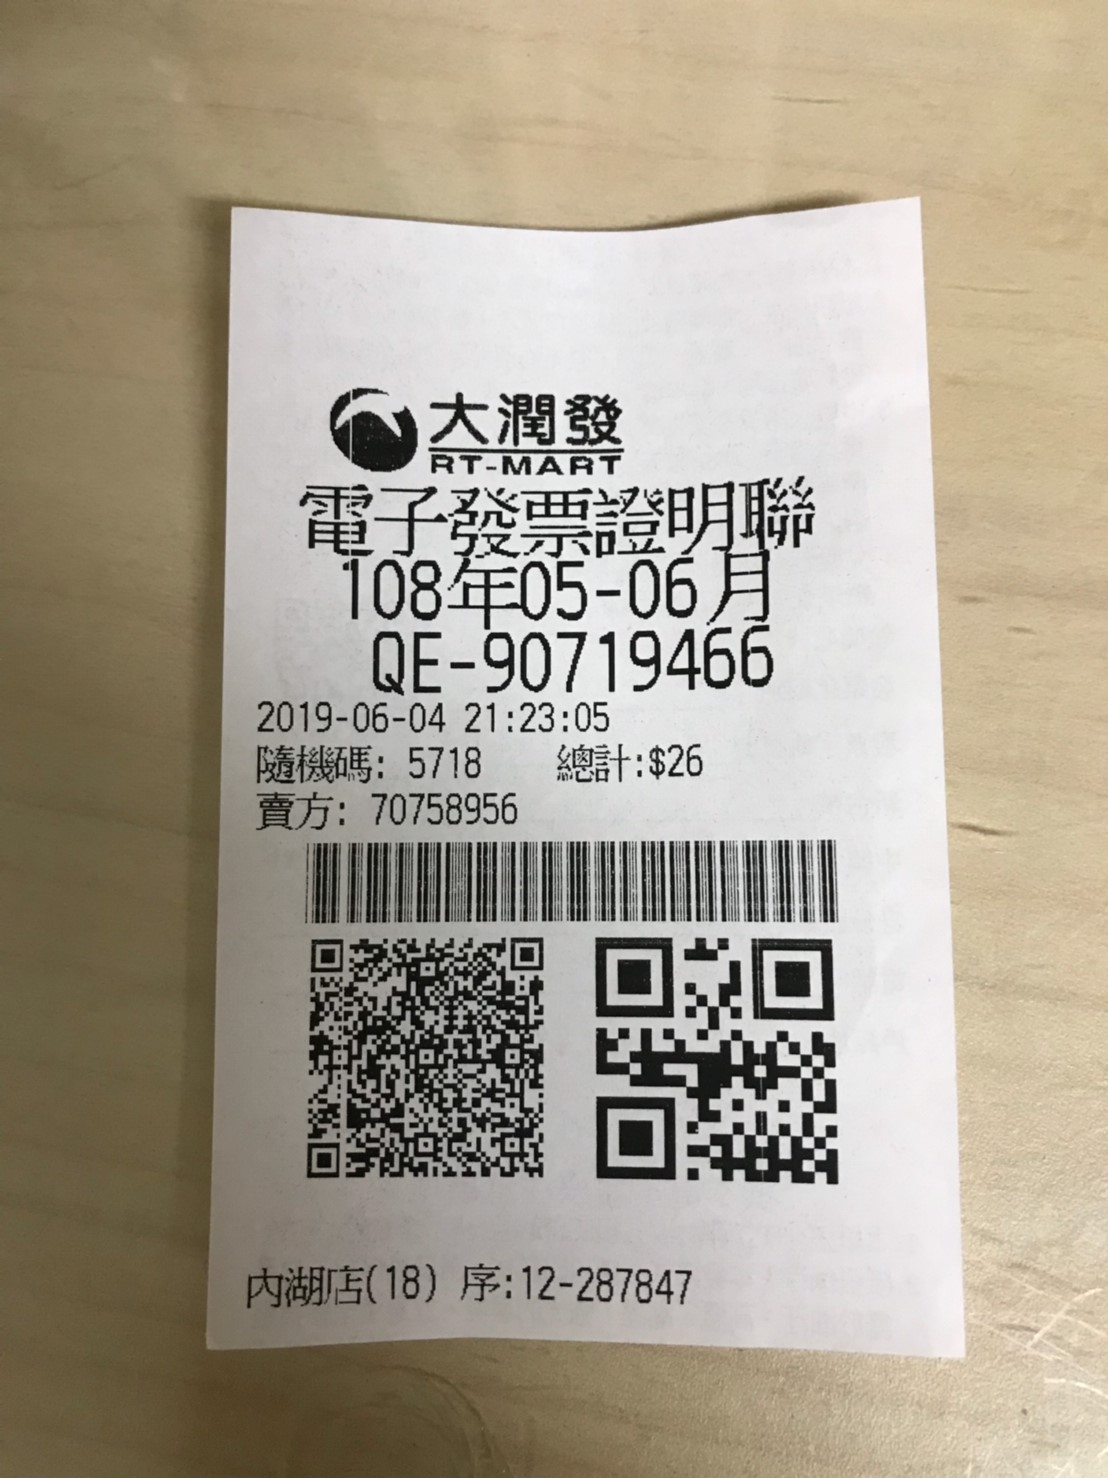Date_New: (341, 550, 776, 625)
Number_New: (475, 626, 776, 696)
